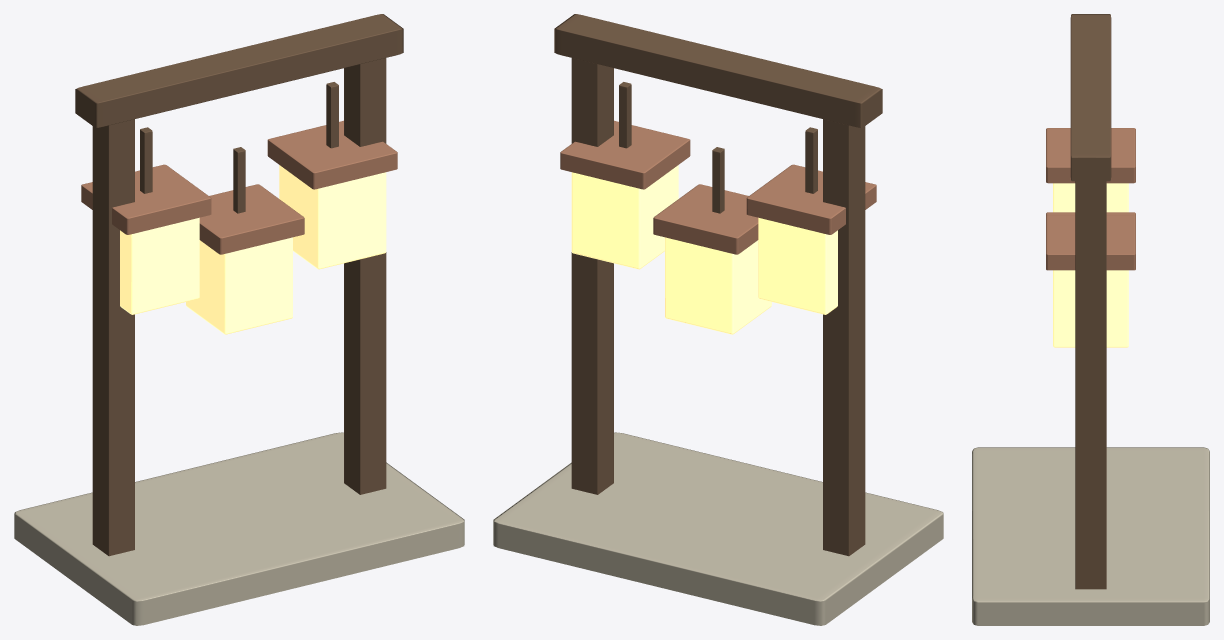
File: winterlantern-0.glb
3 views of the same model, side by side, from view 1: azimuth 30°, elevation 25°; view 2: azimuth 150°, elevation 25°; view 3: azimuth 270°, elevation 25° (orthographic). The views are drawn at different scales.
Visible parts, largest first — view 1: winterlantern-0-0; view 2: winterlantern-0-0; view 3: winterlantern-0-0.
Boxes of the visible parts, left/top/right/bottom form: winterlantern-0-0: left=14, top=14, right=464, bottom=625; winterlantern-0-0: left=493, top=14, right=943, bottom=625; winterlantern-0-0: left=972, top=14, right=1209, bottom=625.
Bounding box in the file's own units: 0.82 × 1.14 × 0.53.
